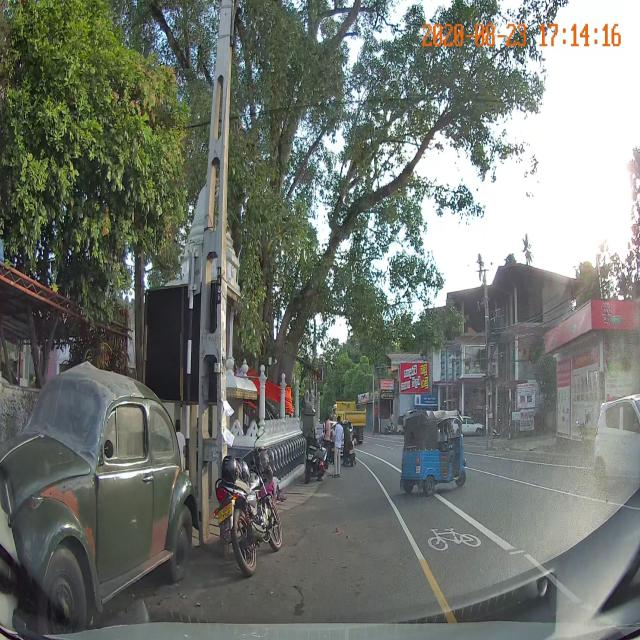Velosiped: (426, 525, 483, 553)
